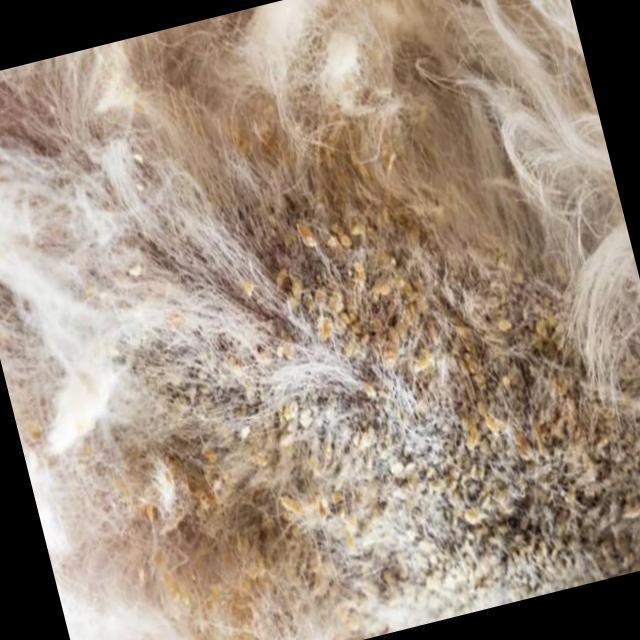fungal infection: (285, 202, 458, 368), (226, 386, 396, 516), (462, 294, 588, 456), (479, 460, 640, 570), (258, 528, 429, 598), (101, 411, 202, 500), (115, 255, 216, 342), (119, 496, 208, 592)
